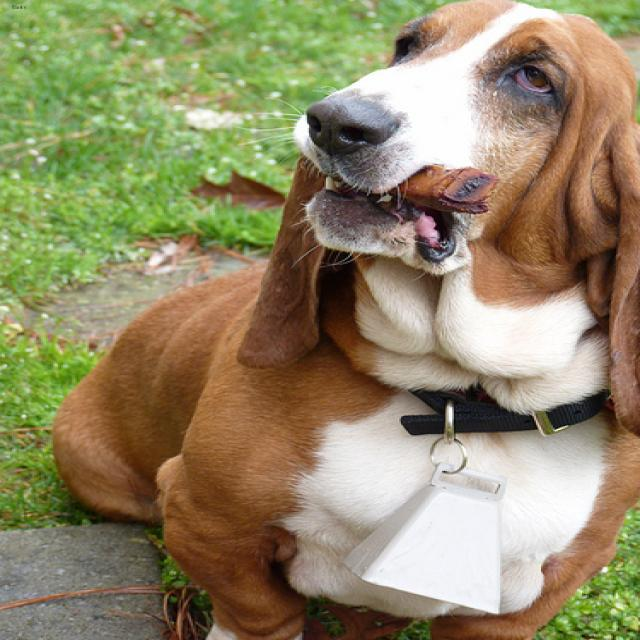dog-basset_hound: (38, 1, 637, 637)
